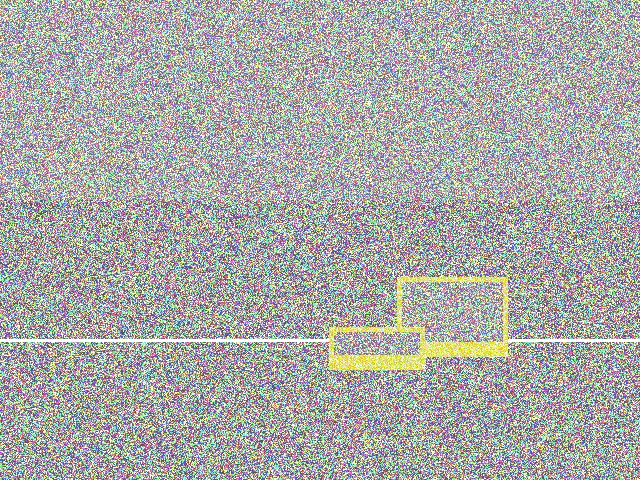truck: (169, 264, 346, 368), (137, 272, 248, 348), (153, 186, 233, 251)
